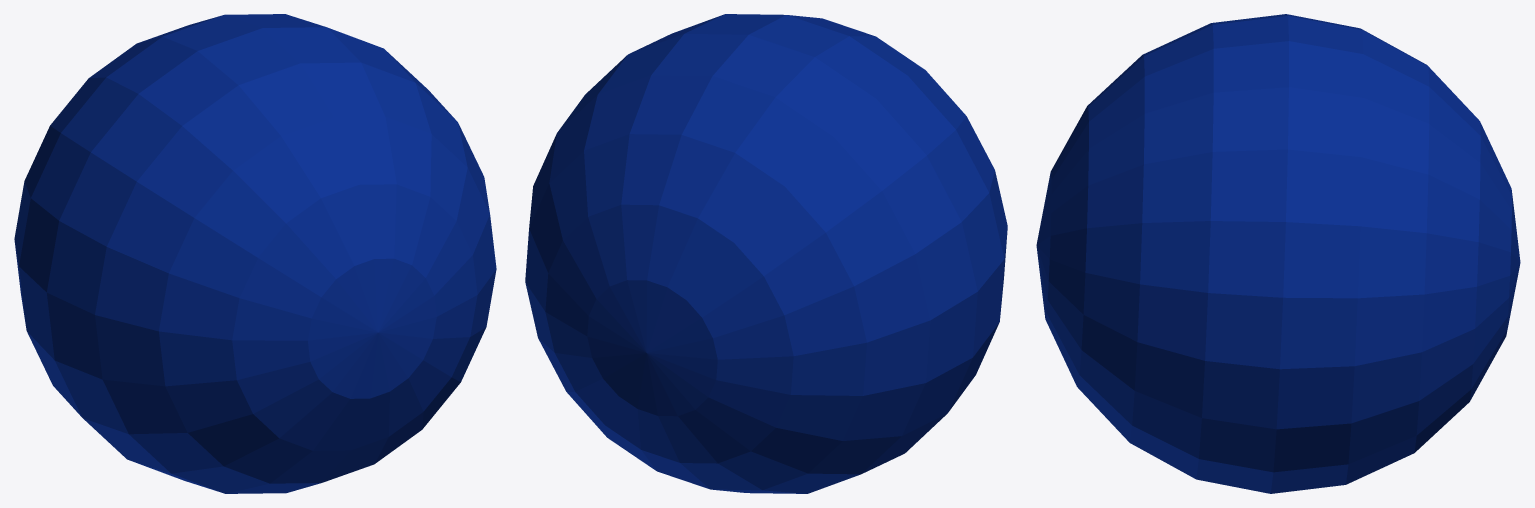
File: RWristYaw.obj
3 renders of one model, left to right at view 1: azimuth 30°, elevation 25°; view 2: azimuth 150°, elevation 25°; view 3: azimuth 270°, elevation 25°, orthographic.
Parts seen in each view (by area): view 1: RWristYaw; view 2: RWristYaw; view 3: RWristYaw.
Boxes of the visible parts, box(x1,y1,x2,y2) form: RWristYaw: box(14, 14, 496, 493); RWristYaw: box(525, 14, 1007, 493); RWristYaw: box(1036, 14, 1520, 493).
Size of the model in its own units: 0.051 by 0.0509 by 0.051.
